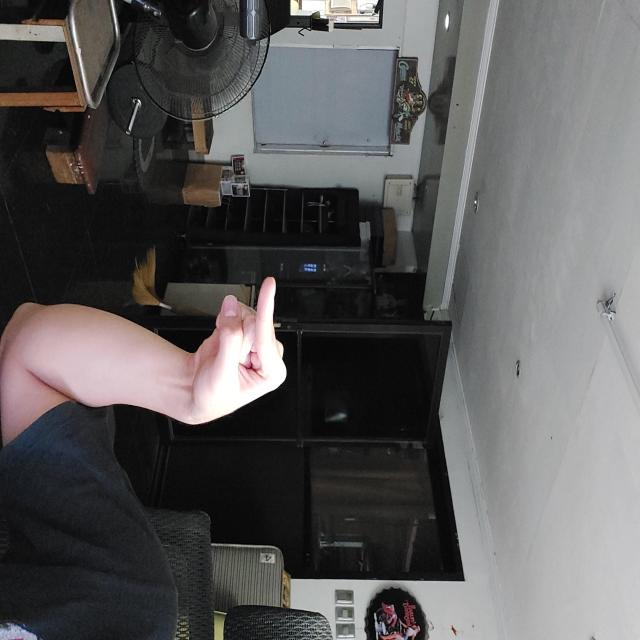Z: (276, 353, 425, 451)
